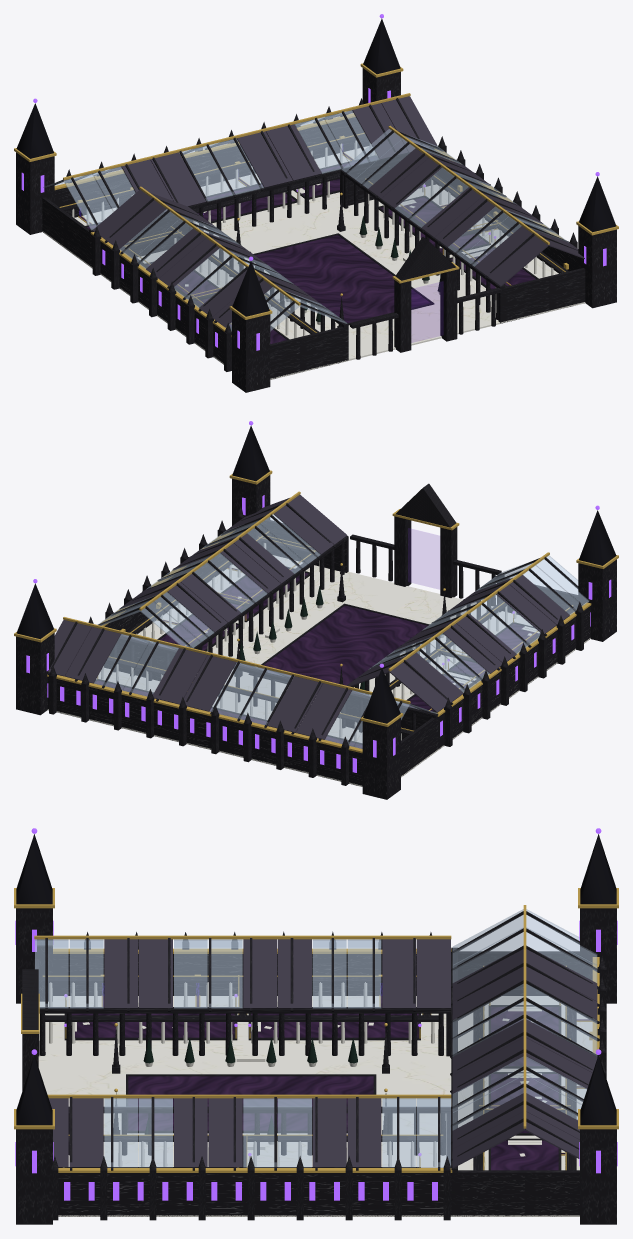
Rendered from inkwell-lake.glb.
3 views of the same model, one above another, from view 1: azimuth 30°, elevation 25°; view 2: azimuth 150°, elevation 25°; view 3: azimuth 270°, elevation 25° (orthographic). The views are drawn at different scales.
Visible parts, largest first — view 1: object 1, Inkwell_Lake; view 2: object 1, Inkwell_Lake; view 3: object 1, Inkwell_Lake.
Boxes of the visible parts, bbox=[...] form: object 1: bbox=[14, 14, 618, 392]; Inkwell_Lake: bbox=[43, 96, 584, 331]; object 1: bbox=[14, 421, 618, 799]; Inkwell_Lake: bbox=[48, 495, 588, 748]; object 1: bbox=[14, 828, 618, 1224]; Inkwell_Lake: bbox=[35, 909, 597, 1167].
Size of the model in its own units: 276 by 90.4 by 296.
11 materials, 4 textured.
